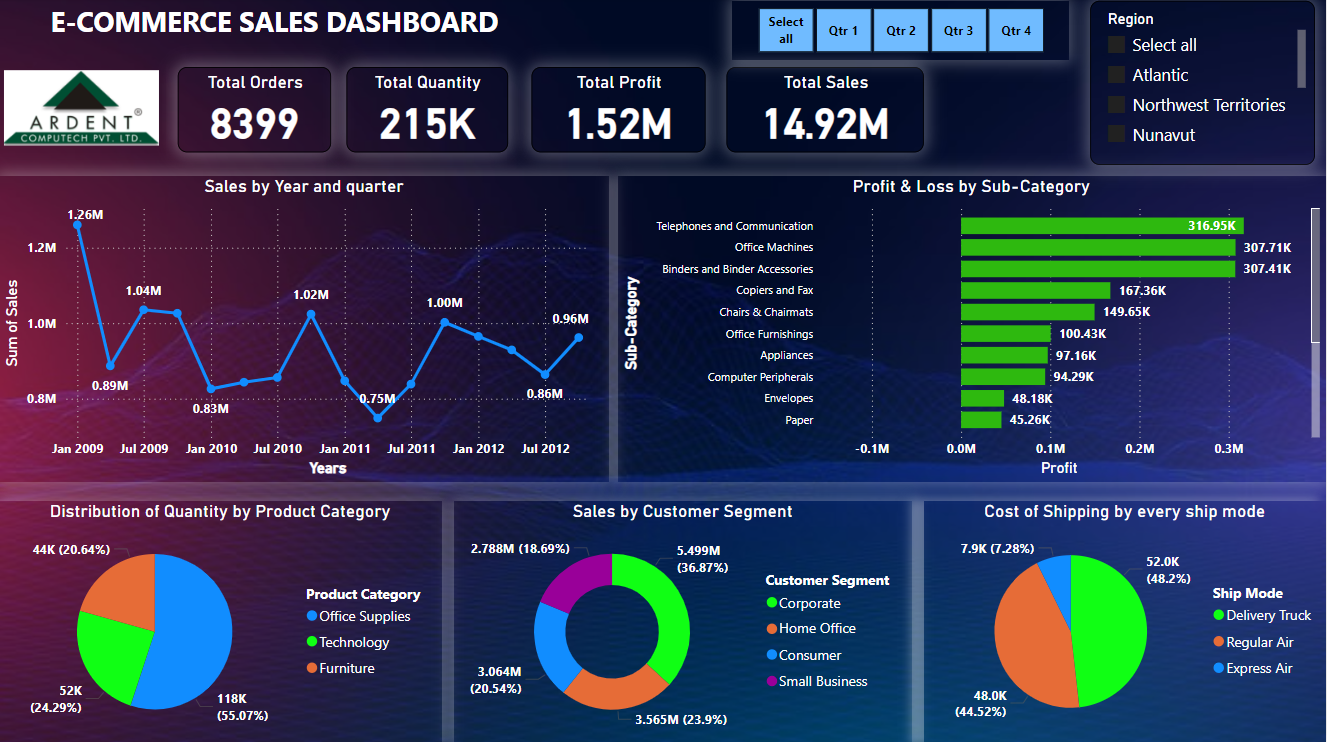

What the dashboard file says about the page in this screenshot:
{"tool":"powerbi","page":{"name":"Report","canvas":[1280,720],"ordinal":0},"visuals":[{"type":"card","title":"Total Orders","fields":{"Values":["CountNonNull(Orders.Row ID)"]},"box":[172.5,67.6,148.4,82],"z":0},{"type":"card","title":"Total Profit","fields":{"Values":["Sum(Orders.Profit)"]},"box":[513.9,67.6,167.7,82],"z":1000},{"type":"card","title":"Total Sales","fields":{"Values":["Sum(Orders.Sales)"]},"box":[702.1,67.6,190.6,82],"z":2000},{"type":"card","title":"Total Quantity","fields":{"Values":["Sum(Orders.Order Quantity)"]},"box":[335.4,67.6,155.6,82],"z":3000},{"type":"donutChart","title":" Sales by Customer Segment","fields":{"Category":["Orders.Customer Segment"],"Y":["Sum(Orders.Sales)"]},"box":[439.1,486.2,441.6,234],"z":4000},{"type":"pieChart","title":"Distribution of  Quantity by Product Category","fields":{"Category":["Orders.Product Category"],"Y":["Sum(Orders.Order Quantity)"]},"box":[0,486.2,427.1,234],"z":5000},{"type":"slicer","fields":{"Values":["Orders.Region"]},"box":[1053.2,3.6,217.2,158],"z":6000},{"type":"pieChart","title":"Cost of Shipping by every ship mode","fields":{"Category":["Orders.Ship Mode"],"Y":["Sum(Orders.Shipping Cost)"]},"box":[892.7,486.7,387.6,233.6],"z":7000},{"type":"textbox","box":[44.6,0,469.3,51.9],"z":8000},{"type":"lineChart","title":"Sales by Year and quarter","fields":{"Category":["Orders.Order Date.Variation.Date Hierarchy.Year","Orders.Order Date.Variation.Date Hierarchy.Quarter"],"Y":["Sum(Orders.Sales)"]},"box":[0,172.5,588.7,295.6],"z":9000},{"type":"barChart","title":"Profit & Loss by Sub-Category","fields":{"Category":["Orders.Product Sub-Category"],"Y":["Sum(Orders.Profit)"]},"box":[597.2,172.5,682.8,295.6],"z":10000},{"type":"slicer","fields":{"Values":["Orders.Order Date.Variation.Date Hierarchy.Quarter"]},"box":[707,3.6,325.7,56.7],"z":11000},{"type":"image","box":[0,41,159.3,131.5],"z":12000}]}

Visuals, with their boxes in screenshot pixels (x1, y1, x2, y2), scaled from the page's 1280x720 canvas onto the 1327x742 screenshot:
"Total Orders" card: box(179, 70, 333, 154)
"Total Profit" card: box(533, 70, 707, 154)
"Total Sales" card: box(728, 70, 925, 154)
"Total Quantity" card: box(348, 70, 509, 154)
" Sales by Customer Segment" donutChart: box(455, 501, 913, 741)
"Distribution of  Quantity by Product Category" pieChart: box(0, 501, 443, 741)
slicer - Orders.Region: box(1092, 4, 1317, 167)
"Cost of Shipping by every ship mode" pieChart: box(925, 502, 1326, 741)
textbox: box(46, 0, 533, 53)
"Sales by Year and quarter" lineChart: box(0, 178, 610, 482)
"Profit & Loss by Sub-Category" barChart: box(619, 178, 1326, 482)
slicer - Orders.Order Date.Variation.Date Hierarchy.Quarter: box(733, 4, 1071, 62)
image: box(0, 42, 165, 178)
